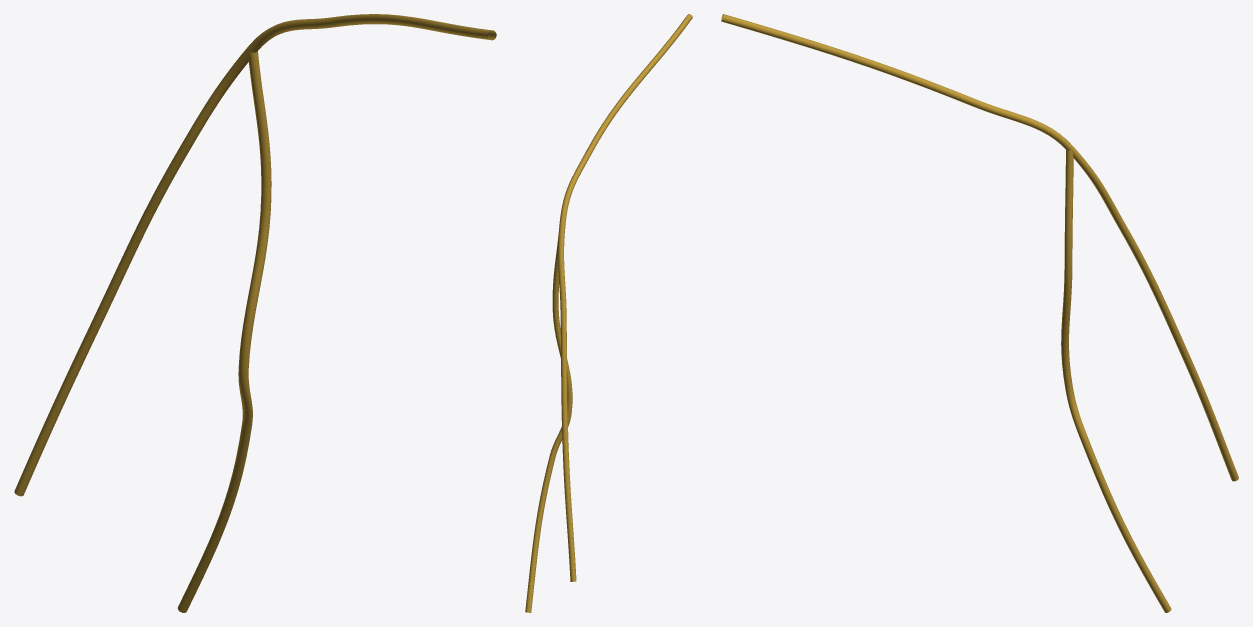
3 views of the same model, side by side, from view 1: azimuth 30°, elevation 25°; view 2: azimuth 150°, elevation 25°; view 3: azimuth 270°, elevation 25° (orthographic). The views are drawn at different scales.
Parts seen in each view (by area): view 1: 右侧足背中间皮神经; view 2: 右侧足背中间皮神经; view 3: 右侧足背中间皮神经.
Boxes of the visible parts, x1,y1,x2,y2 form: 右侧足背中间皮神经: (14, 14, 496, 612); 右侧足背中间皮神经: (525, 14, 692, 612); 右侧足背中间皮神经: (721, 14, 1238, 612).
Size of the model in its own units: 0.0257 by 0.1254 by 0.0973.
